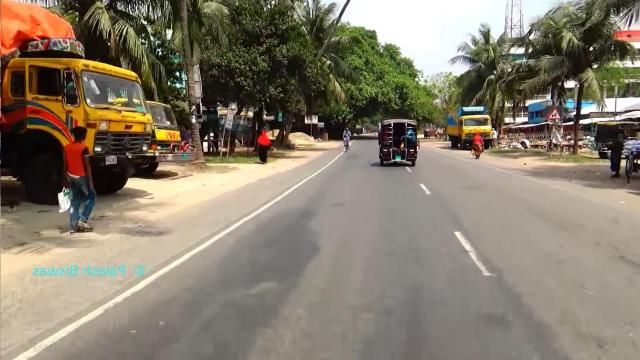truck: (0, 10, 156, 207), (146, 93, 194, 165), (441, 101, 498, 154)
